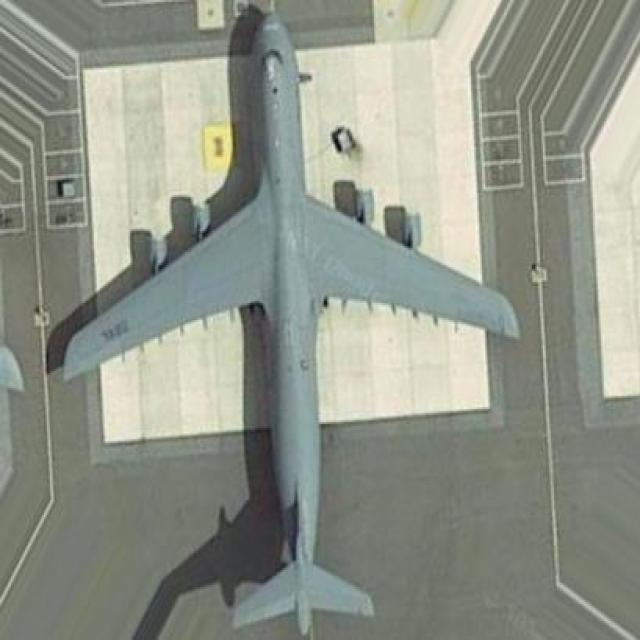C-5_TopDown: (44, 2, 521, 638)
